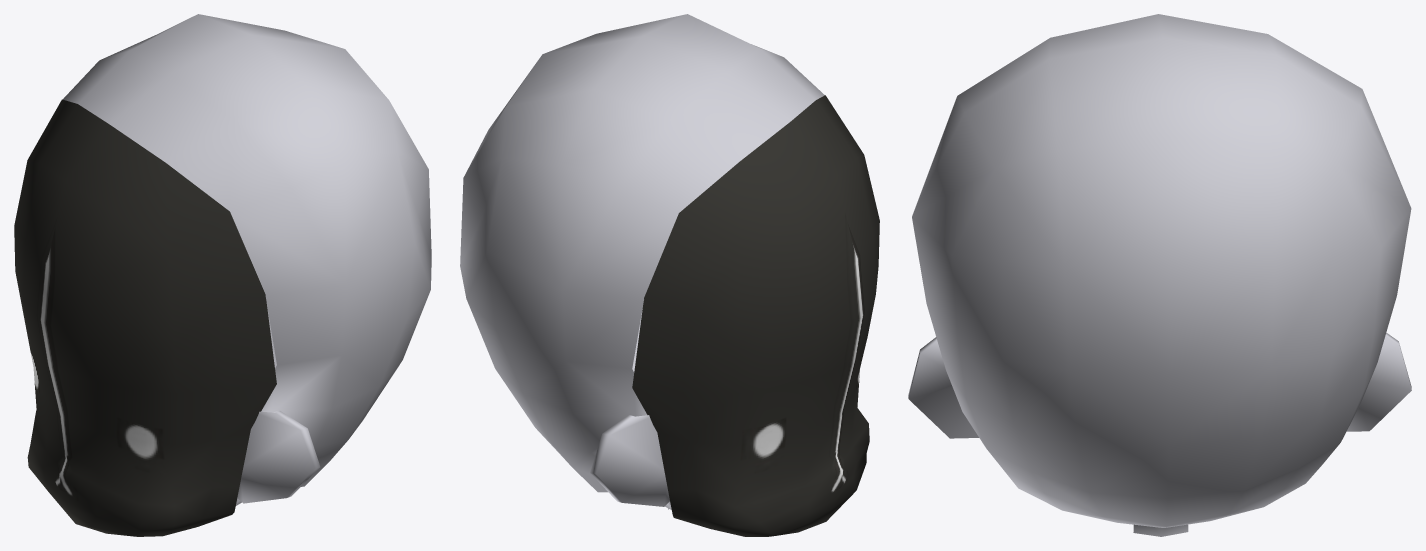
The model's file is basicDollHead.fbx.
The picture shows the model from 3 angles, left to right: view 1: azimuth 30°, elevation 25°; view 2: azimuth 150°, elevation 25°; view 3: azimuth 270°, elevation 25°; orthographic projection. The views are drawn at different scales.
Parts seen in each view (by area): view 1: Body, face; view 2: Body, face; view 3: Body.
Part boxes in pixels (x1,y1,x2,y2): Body: [63, 14, 431, 505]; face: [14, 99, 276, 536]; Body: [460, 14, 824, 509]; face: [632, 95, 879, 536]; Body: [908, 14, 1411, 536].
Size of the model in its own units: 0.633 by 0.7549 by 0.6695.
